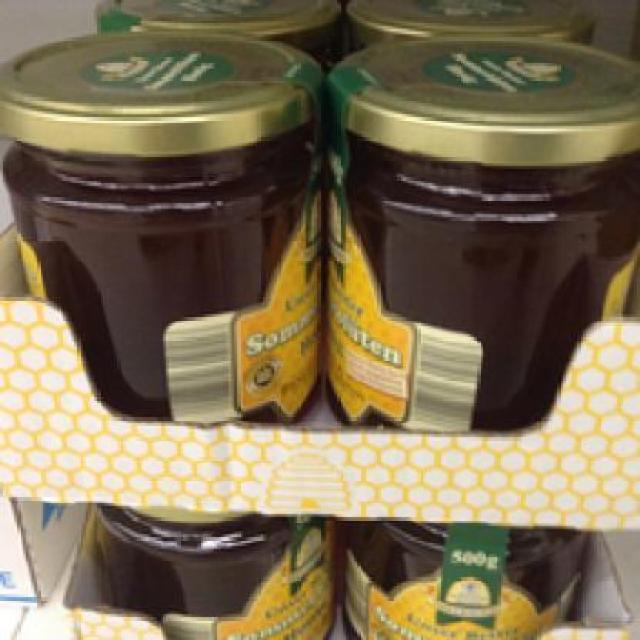Honey: (323, 20, 637, 457), (0, 23, 323, 443)
